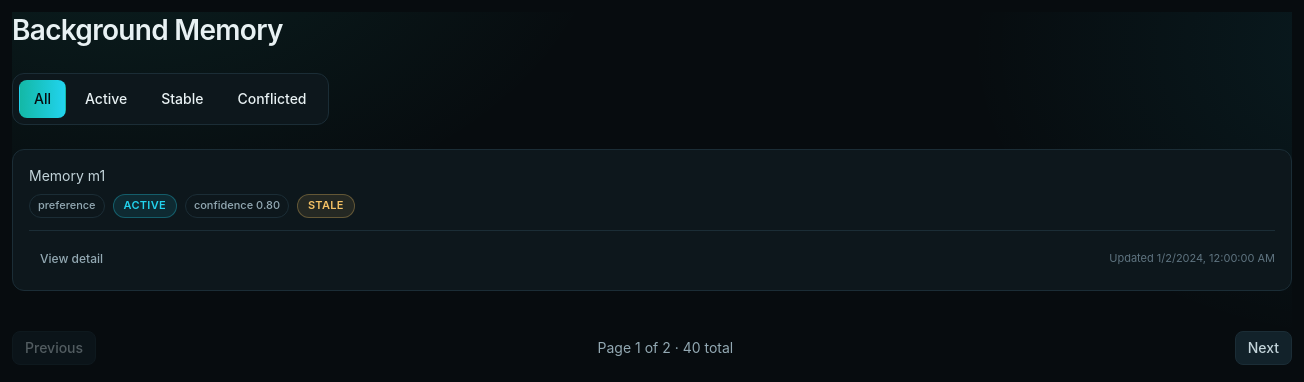
Scenario: BackgroundMemoryPage › paginates the background list
Check: the text with test id "memory-pagination-status" shows "Page 1 of 2", box [598,339,733,356]
Click the button "Next": [1263, 348] box [1235,331,1292,365]
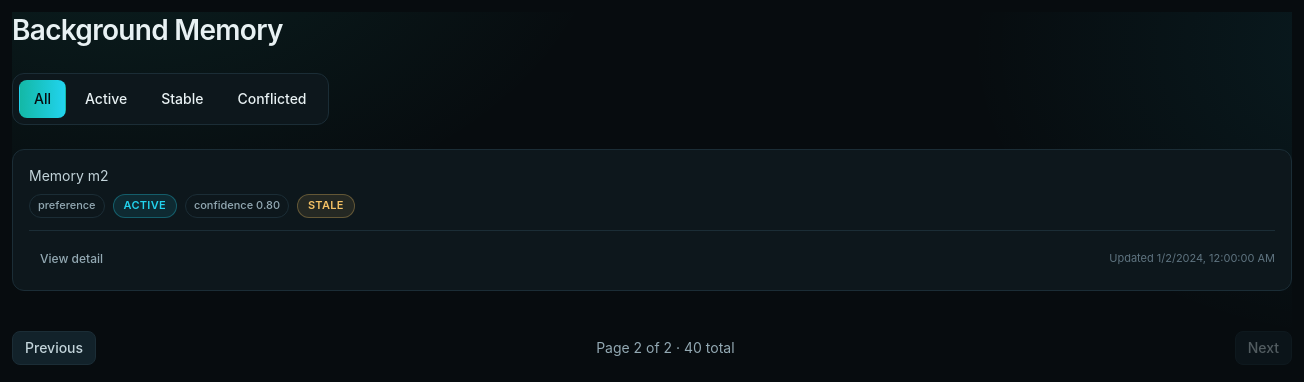
Check: the text with test id "memory-pagination-status" shows "Page 2 of 2", box [596,339,735,356]
